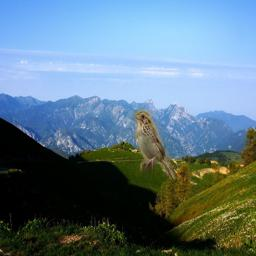Sparrow: (133, 109, 176, 179)
